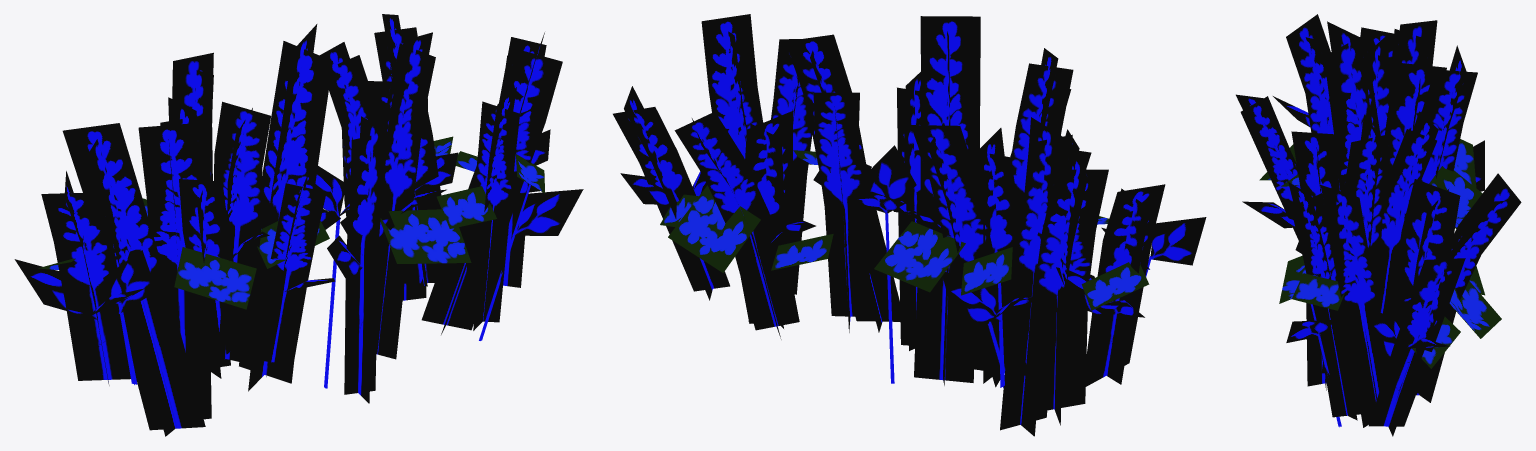
Rendered from Homeworld_Exterior_Fd_Plant_Grass_Guangchang_03_Lod0.fbx.
3 renders of one model, left to right at view 1: azimuth 30°, elevation 25°; view 2: azimuth 150°, elevation 25°; view 3: azimuth 270°, elevation 25°, orthographic. The views are drawn at different scales.
Parts seen in each view (by area): view 1: Area_Fd_Grass_Common_MGrass07_Lod0; view 2: Area_Fd_Grass_Common_MGrass07_Lod0; view 3: Area_Fd_Grass_Common_MGrass07_Lod0.
Boxes of the visible parts, x1,y1,x2,y2 form: Area_Fd_Grass_Common_MGrass07_Lod0: (14, 14, 583, 436); Area_Fd_Grass_Common_MGrass07_Lod0: (613, 14, 1206, 436); Area_Fd_Grass_Common_MGrass07_Lod0: (1236, 14, 1521, 436).
Bounding box in the file's own units: 3.36 × 2.32 × 1.69.
